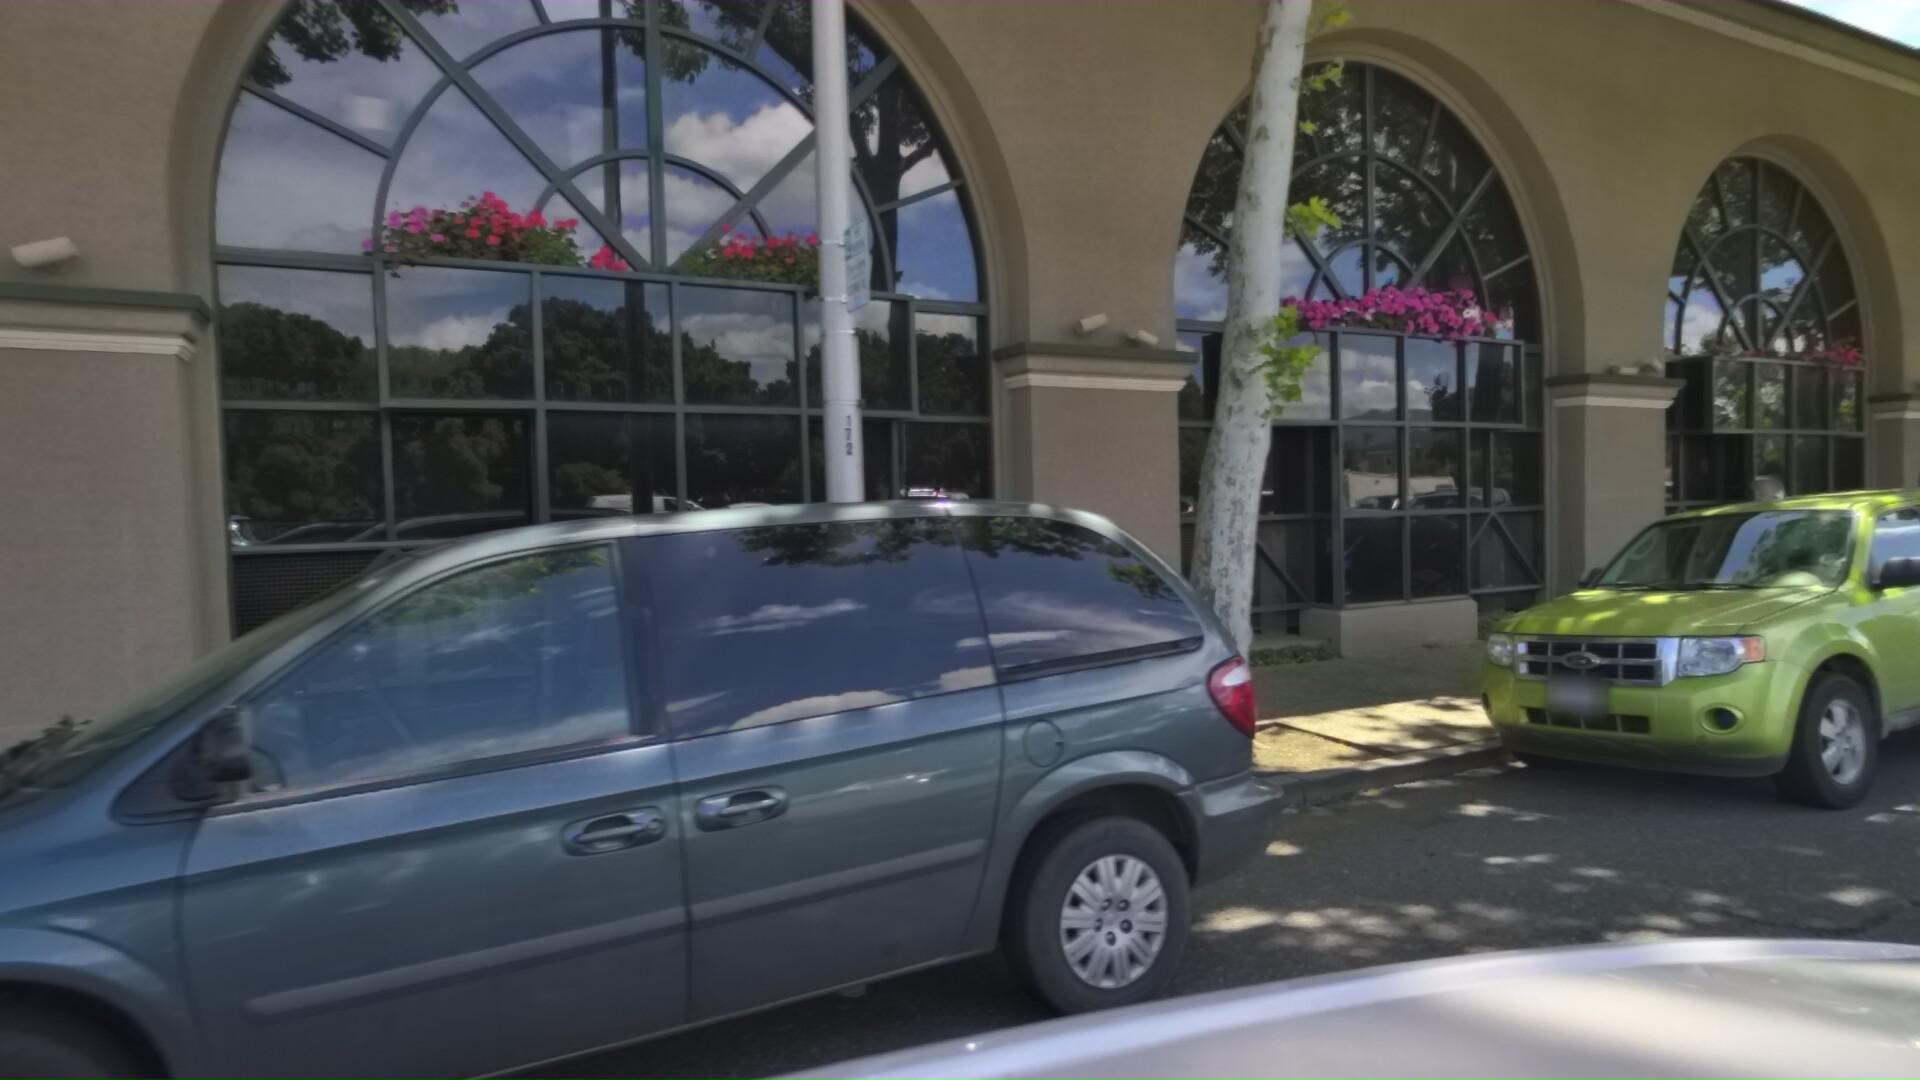car: (0, 463, 1374, 1080), (1440, 468, 1920, 843), (1905, 491, 1920, 721)
